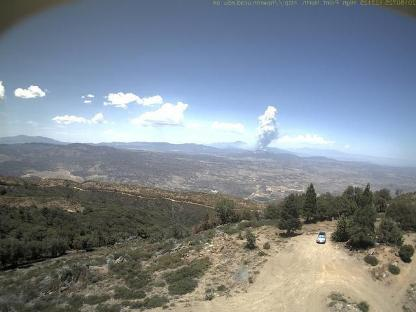smoke: (250, 102, 282, 154)
